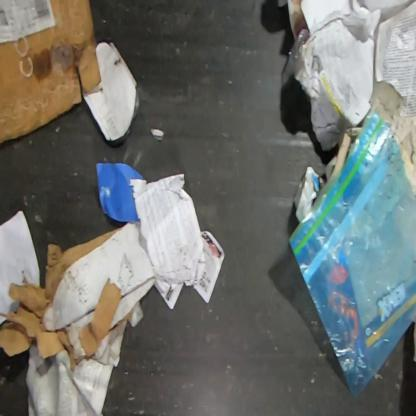cardboard: (0, 221, 156, 372), (0, 0, 102, 146), (82, 42, 140, 141)
soft_plastic: (287, 108, 415, 400), (281, 28, 311, 85)
